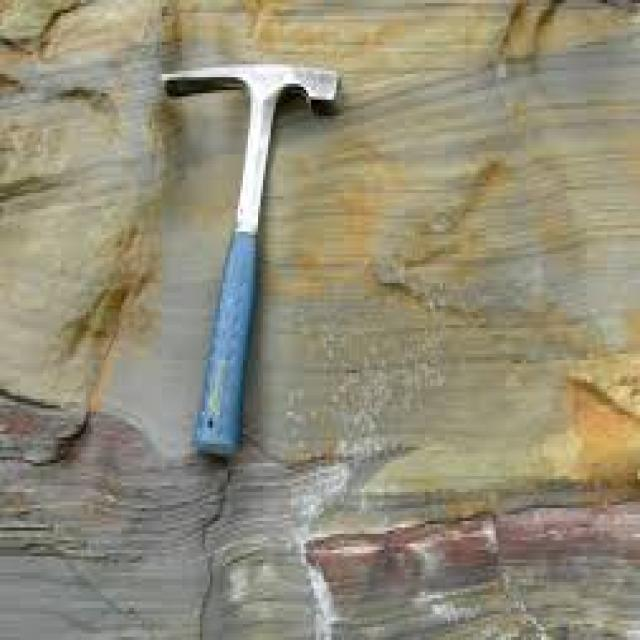Palu: (168, 51, 381, 476)
